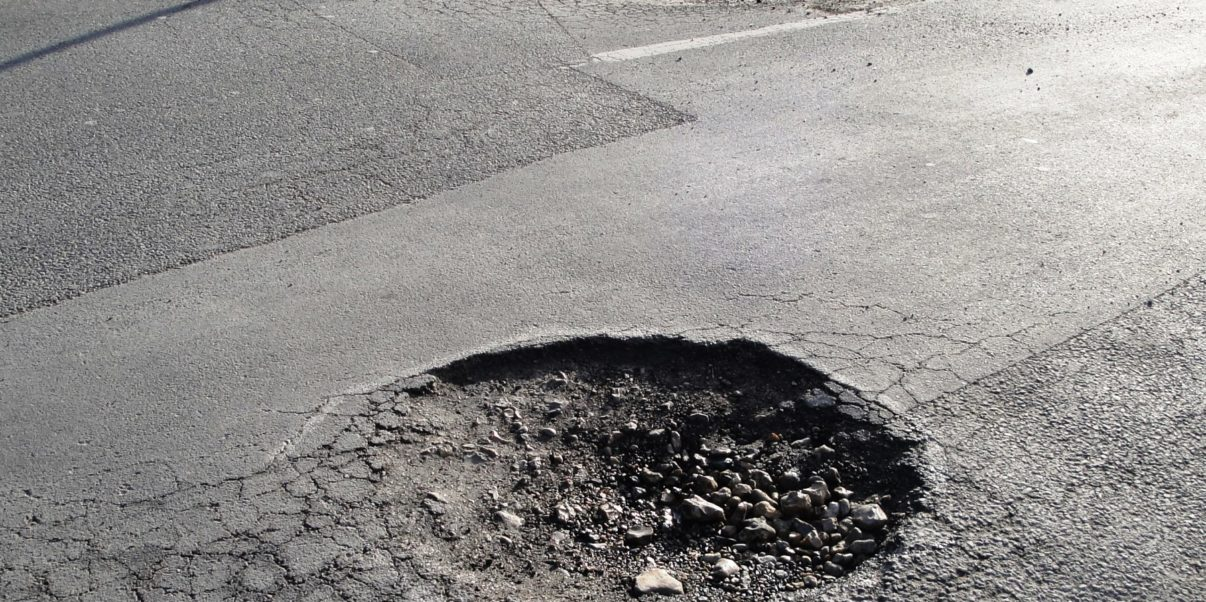pothole: (305, 309, 945, 596)
